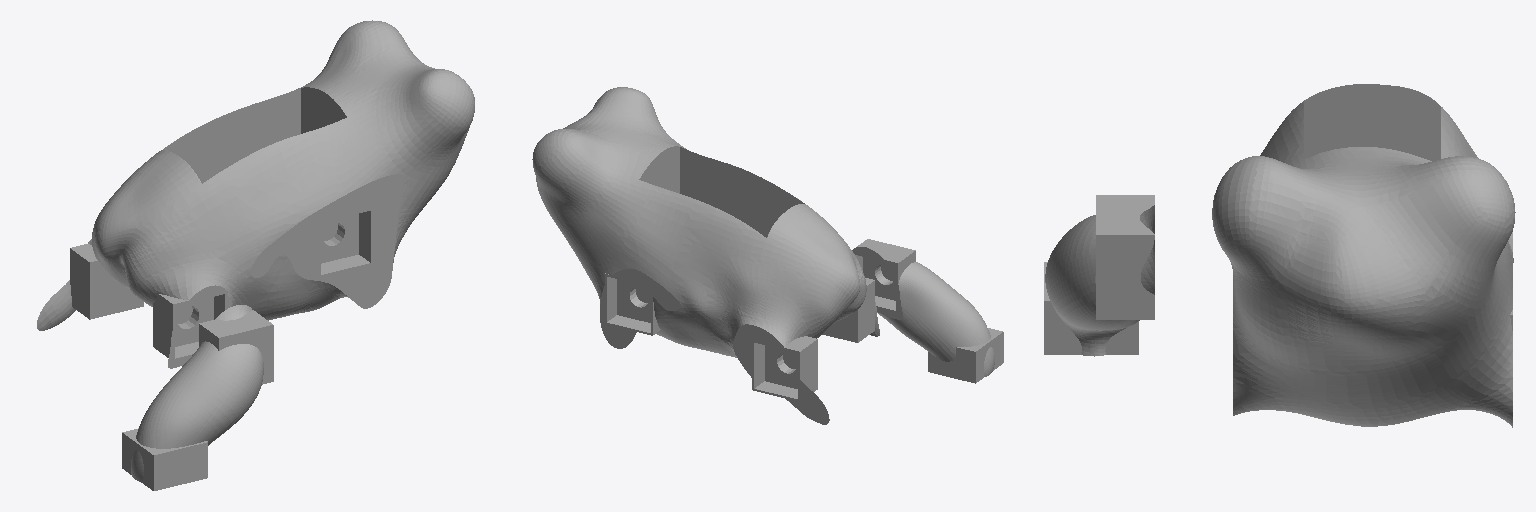
The robot description file, URDF, robot "FrogBot2_top-FrogBot2-x-0_bottom-FrogBot2-x-0":
<?xml version="1.0" ?>
<robot name="FrogBot2_top-FrogBot2-x-0_bottom-FrogBot2-x-0">

<material name="pla_5_percent_infill">
  <color rgba="0.700 0.700 0.700 1.000"/>
</material>

<link name="base_link">
  <inertial>
    <origin xyz="0 0 0" rpy="0 0 0"/>
    <mass value="1.3195545643272064"/>
    <inertia ixx="0.004661128976538509" iyy="0.011084956581942581" izz="0.010434027311362767" ixy="0.00012367021510998604" iyz="8.103854715456007e-05" ixz="-0.0024599087459031862"/>
  </inertial>
  <visual>
    <origin xyz="0 0 0" rpy="0 0 0"/>
    <geometry>
      <mesh filename="simple_meshes/base_link.stl" scale="0.001 0.001 0.001"/>
    </geometry>
    <material name="pla_5_percent_infill"/>
  </visual>
  <collision>
    <origin xyz="0 0 0" rpy="0 0 0"/>
    <geometry>
      <mesh filename="simple_meshes/base_link.stl" scale="0.001 0.001 0.001"/>
    </geometry>
  </collision>
</link>

<link name="body_1_0_1">
  <inertial>
    <origin xyz="-0.053395 -0.09218 -0.023663" rpy="0 0 0"/>
    <mass value="0.04799444423922557"/>
    <inertia ixx="5.2803174145342057e-05" iyy="5.619794103627328e-05" izz="1.676192602884552e-05" ixy="-3.034819435472993e-07" iyz="3.2780100236989845e-06" ixz="6.190608707399671e-06"/>
  </inertial>
  <visual>
    <origin xyz="-0.053395 -0.09218 -0.023663" rpy="0 0 0"/>
    <geometry>
      <mesh filename="simple_meshes/body_1_0_1.stl" scale="0.001 0.001 0.001"/>
    </geometry>
    <material name="pla_5_percent_infill"/>
  </visual>
  <collision>
    <origin xyz="-0.053395 -0.09218 -0.023663" rpy="0 0 0"/>
    <geometry>
      <mesh filename="simple_meshes/body_1_0_1.stl" scale="0.001 0.001 0.001"/>
    </geometry>
  </collision>
</link>

<link name="body_1_1_1">
  <inertial>
    <origin xyz="0.095032 -0.09218 0.005345" rpy="0 0 0"/>
    <mass value="0.08630944673625074"/>
    <inertia ixx="5.514327864541047e-05" iyy="0.00011598762227759589" izz="9.208938151368919e-05" ixy="5.134815311549348e-06" iyz="5.082767921594155e-06" ixz="-3.5080771214462513e-05"/>
  </inertial>
  <visual>
    <origin xyz="0.095032 -0.09218 0.005345" rpy="0 0 0"/>
    <geometry>
      <mesh filename="simple_meshes/body_1_1_1.stl" scale="0.001 0.001 0.001"/>
    </geometry>
    <material name="pla_5_percent_infill"/>
  </visual>
  <collision>
    <origin xyz="0.095032 -0.09218 0.005345" rpy="0 0 0"/>
    <geometry>
      <mesh filename="simple_meshes/body_1_1_1.stl" scale="0.001 0.001 0.001"/>
    </geometry>
  </collision>
</link>

<link name="body_1_2_1">
  <inertial>
    <origin xyz="-0.041549 0.09218 -0.043945" rpy="0 0 0"/>
    <mass value="0.05834434694089081"/>
    <inertia ixx="9.78296082568518e-05" iyy="0.00010293905077679802" izz="2.716272768461532e-05" ixy="1.589657563612313e-06" iyz="-1.4489362938955192e-05" ixz="1.502671672497142e-05"/>
  </inertial>
  <visual>
    <origin xyz="-0.041549 0.09218 -0.043945" rpy="0 0 0"/>
    <geometry>
      <mesh filename="simple_meshes/body_1_2_1.stl" scale="0.001 0.001 0.001"/>
    </geometry>
    <material name="pla_5_percent_infill"/>
  </visual>
  <collision>
    <origin xyz="-0.041549 0.09218 -0.043945" rpy="0 0 0"/>
    <geometry>
      <mesh filename="simple_meshes/body_1_2_1.stl" scale="0.001 0.001 0.001"/>
    </geometry>
  </collision>
</link>

<link name="body_1_3_1">
  <inertial>
    <origin xyz="0.087142 0.09218 -0.003397" rpy="0 0 0"/>
    <mass value="0.09057289863102816"/>
    <inertia ixx="5.639692942870913e-05" iyy="0.00011345600790085212" izz="8.95905237204165e-05" ixy="-5.716857235056171e-06" iyz="-3.6667660727190835e-06" ixz="-3.326508076959982e-05"/>
  </inertial>
  <visual>
    <origin xyz="0.087142 0.09218 -0.003397" rpy="0 0 0"/>
    <geometry>
      <mesh filename="simple_meshes/body_1_3_1.stl" scale="0.001 0.001 0.001"/>
    </geometry>
    <material name="pla_5_percent_infill"/>
  </visual>
  <collision>
    <origin xyz="0.087142 0.09218 -0.003397" rpy="0 0 0"/>
    <geometry>
      <mesh filename="simple_meshes/body_1_3_1.stl" scale="0.001 0.001 0.001"/>
    </geometry>
  </collision>
</link>

<link name="body_2_0_1">
  <inertial>
    <origin xyz="-0.065654 -0.138685 0.094558" rpy="0 0 0"/>
    <mass value="0.09527860020332019"/>
    <inertia ixx="0.0001029198834668647" iyy="0.00011442436296553015" izz="0.000186007311677915" ixy="-1.0464852799072096e-05" iyz="5.479148406796475e-06" ixz="3.7826570893231912e-06"/>
  </inertial>
  <visual>
    <origin xyz="-0.065654 -0.138685 0.094558" rpy="0 0 0"/>
    <geometry>
      <mesh filename="simple_meshes/body_2_0_1.stl" scale="0.001 0.001 0.001"/>
    </geometry>
    <material name="pla_5_percent_infill"/>
  </visual>
  <collision>
    <origin xyz="-0.065654 -0.138685 0.094558" rpy="0 0 0"/>
    <geometry>
      <mesh filename="simple_meshes/body_2_0_1.stl" scale="0.001 0.001 0.001"/>
    </geometry>
  </collision>
</link>

<link name="body_2_1_1">
  <inertial>
    <origin xyz="0.15751 -0.142533 0.094558" rpy="0 0 0"/>
    <mass value="0.07748939377067222"/>
    <inertia ixx="5.797035446383075e-05" iyy="7.381370771172499e-05" izz="9.274986450515978e-05" ixy="2.704018428781145e-07" iyz="1.5240521847553149e-05" ixz="8.529957424013726e-06"/>
  </inertial>
  <visual>
    <origin xyz="0.15751 -0.142533 0.094558" rpy="0 0 0"/>
    <geometry>
      <mesh filename="simple_meshes/body_2_1_1.stl" scale="0.001 0.001 0.001"/>
    </geometry>
    <material name="pla_5_percent_infill"/>
  </visual>
  <collision>
    <origin xyz="0.15751 -0.142533 0.094558" rpy="0 0 0"/>
    <geometry>
      <mesh filename="simple_meshes/body_2_1_1.stl" scale="0.001 0.001 0.001"/>
    </geometry>
  </collision>
</link>

<link name="body_2_2_1">
  <inertial>
    <origin xyz="-0.061161 0.144934 0.094558" rpy="0 0 0"/>
    <mass value="0.09306893628445996"/>
    <inertia ixx="0.0001033425156258547" iyy="0.00011173851979767767" izz="0.00018617734012826978" ixy="1.1591404523521591e-05" iyz="-2.7779278013602936e-06" ixz="1.2372819927100685e-06"/>
  </inertial>
  <visual>
    <origin xyz="-0.061161 0.144934 0.094558" rpy="0 0 0"/>
    <geometry>
      <mesh filename="simple_meshes/body_2_2_1.stl" scale="0.001 0.001 0.001"/>
    </geometry>
    <material name="pla_5_percent_infill"/>
  </visual>
  <collision>
    <origin xyz="-0.061161 0.144934 0.094558" rpy="0 0 0"/>
    <geometry>
      <mesh filename="simple_meshes/body_2_2_1.stl" scale="0.001 0.001 0.001"/>
    </geometry>
  </collision>
</link>

<link name="body_2_3_1">
  <inertial>
    <origin xyz="0.160089 0.144768 0.094558" rpy="0 0 0"/>
    <mass value="0.0733493021309565"/>
    <inertia ixx="6.116190391828105e-05" iyy="7.024912828439058e-05" izz="8.791123455897639e-05" ixy="-1.3856900841766658e-06" iyz="-1.7500856212560858e-05" ixz="1.103211598439918e-05"/>
  </inertial>
  <visual>
    <origin xyz="0.160089 0.144768 0.094558" rpy="0 0 0"/>
    <geometry>
      <mesh filename="simple_meshes/body_2_3_1.stl" scale="0.001 0.001 0.001"/>
    </geometry>
    <material name="pla_5_percent_infill"/>
  </visual>
  <collision>
    <origin xyz="0.160089 0.144768 0.094558" rpy="0 0 0"/>
    <geometry>
      <mesh filename="simple_meshes/body_2_3_1.stl" scale="0.001 0.001 0.001"/>
    </geometry>
  </collision>
</link>

<joint name="joint_1_0" type="revolute">
  <origin xyz="0.053395 0.09218 0.023663" rpy="0 0 0"/>
  <parent link="base_link"/>
  <child link="body_1_0_1"/>
  <axis xyz="1.0 0.0 0.0"/>
  <limit upper="1.2" lower="-1.2" effort="3.8" velocity="5.4"/>
</joint>
<transmission name="joint_1_0_tran">
  <type>transmission_interface/SimpleTransmission</type>
  <joint name="joint_1_0">
    <hardwareInterface>PositionJointInterface</hardwareInterface>
  </joint>
  <actuator name="joint_1_0_actr">
    <hardwareInterface>PositionJointInterface</hardwareInterface>
    <mechanicalReduction>1</mechanicalReduction>
  </actuator>
</transmission>

<joint name="joint_1_1" type="revolute">
  <origin xyz="-0.095032 0.09218 -0.005345" rpy="0 0 0"/>
  <parent link="base_link"/>
  <child link="body_1_1_1"/>
  <axis xyz="1.0 0.0 0.0"/>
  <limit upper="1.2" lower="-1.2" effort="3.8" velocity="5.4"/>
</joint>
<transmission name="joint_1_1_tran">
  <type>transmission_interface/SimpleTransmission</type>
  <joint name="joint_1_1">
    <hardwareInterface>PositionJointInterface</hardwareInterface>
  </joint>
  <actuator name="joint_1_1_actr">
    <hardwareInterface>PositionJointInterface</hardwareInterface>
    <mechanicalReduction>1</mechanicalReduction>
  </actuator>
</transmission>

<joint name="joint_1_2" type="revolute">
  <origin xyz="0.041549 -0.09218 0.043945" rpy="0 0 0"/>
  <parent link="base_link"/>
  <child link="body_1_2_1"/>
  <axis xyz="1.0 0.0 0.0"/>
  <limit upper="1.2" lower="-1.2" effort="3.8" velocity="5.4"/>
</joint>
<transmission name="joint_1_2_tran">
  <type>transmission_interface/SimpleTransmission</type>
  <joint name="joint_1_2">
    <hardwareInterface>PositionJointInterface</hardwareInterface>
  </joint>
  <actuator name="joint_1_2_actr">
    <hardwareInterface>PositionJointInterface</hardwareInterface>
    <mechanicalReduction>1</mechanicalReduction>
  </actuator>
</transmission>

<joint name="joint_1_3" type="revolute">
  <origin xyz="-0.087142 -0.09218 0.003397" rpy="0 0 0"/>
  <parent link="base_link"/>
  <child link="body_1_3_1"/>
  <axis xyz="1.0 0.0 0.0"/>
  <limit upper="1.2" lower="-1.2" effort="3.8" velocity="5.4"/>
</joint>
<transmission name="joint_1_3_tran">
  <type>transmission_interface/SimpleTransmission</type>
  <joint name="joint_1_3">
    <hardwareInterface>PositionJointInterface</hardwareInterface>
  </joint>
  <actuator name="joint_1_3_actr">
    <hardwareInterface>PositionJointInterface</hardwareInterface>
    <mechanicalReduction>1</mechanicalReduction>
  </actuator>
</transmission>

<joint name="joint_2_0" type="revolute">
  <origin xyz="0.012259 0.046505 -0.118221" rpy="0 0 0"/>
  <parent link="body_1_0_1"/>
  <child link="body_2_0_1"/>
  <axis xyz="1.0 0.0 0.0"/>
  <limit upper="1.2" lower="-1.2" effort="3.8" velocity="5.4"/>
</joint>
<transmission name="joint_2_0_tran">
  <type>transmission_interface/SimpleTransmission</type>
  <joint name="joint_2_0">
    <hardwareInterface>PositionJointInterface</hardwareInterface>
  </joint>
  <actuator name="joint_2_0_actr">
    <hardwareInterface>PositionJointInterface</hardwareInterface>
    <mechanicalReduction>1</mechanicalReduction>
  </actuator>
</transmission>

<joint name="joint_2_1" type="revolute">
  <origin xyz="-0.062478 0.050353 -0.089213" rpy="0 0 0"/>
  <parent link="body_1_1_1"/>
  <child link="body_2_1_1"/>
  <axis xyz="1.0 0.0 0.0"/>
  <limit upper="1.2" lower="-1.2" effort="3.8" velocity="5.4"/>
</joint>
<transmission name="joint_2_1_tran">
  <type>transmission_interface/SimpleTransmission</type>
  <joint name="joint_2_1">
    <hardwareInterface>PositionJointInterface</hardwareInterface>
  </joint>
  <actuator name="joint_2_1_actr">
    <hardwareInterface>PositionJointInterface</hardwareInterface>
    <mechanicalReduction>1</mechanicalReduction>
  </actuator>
</transmission>

<joint name="joint_2_2" type="revolute">
  <origin xyz="0.019612 -0.052754 -0.138503" rpy="0 0 0"/>
  <parent link="body_1_2_1"/>
  <child link="body_2_2_1"/>
  <axis xyz="1.0 0.0 0.0"/>
  <limit upper="1.2" lower="-1.2" effort="3.8" velocity="5.4"/>
</joint>
<transmission name="joint_2_2_tran">
  <type>transmission_interface/SimpleTransmission</type>
  <joint name="joint_2_2">
    <hardwareInterface>PositionJointInterface</hardwareInterface>
  </joint>
  <actuator name="joint_2_2_actr">
    <hardwareInterface>PositionJointInterface</hardwareInterface>
    <mechanicalReduction>1</mechanicalReduction>
  </actuator>
</transmission>

<joint name="joint_2_3" type="revolute">
  <origin xyz="-0.072947 -0.052588 -0.097955" rpy="0 0 0"/>
  <parent link="body_1_3_1"/>
  <child link="body_2_3_1"/>
  <axis xyz="1.0 0.0 0.0"/>
  <limit upper="1.2" lower="-1.2" effort="3.8" velocity="5.4"/>
</joint>
<transmission name="joint_2_3_tran">
  <type>transmission_interface/SimpleTransmission</type>
  <joint name="joint_2_3">
    <hardwareInterface>PositionJointInterface</hardwareInterface>
  </joint>
  <actuator name="joint_2_3_actr">
    <hardwareInterface>PositionJointInterface</hardwareInterface>
    <mechanicalReduction>1</mechanicalReduction>
  </actuator>
</transmission>

</robot>

--- What the picture shows (computed from the rendered views, not written in the file) ---
The picture shows the robot from 3 angles, left to right: view 1: azimuth 30°, elevation 25°; view 2: azimuth 150°, elevation 25°; view 3: azimuth 270°, elevation 25°; orthographic projection.
Robot: FrogBot2_top-FrogBot2-x-0_bottom-FrogBot2-x-0 — 9 links, 8 joints (8 revolute); root link base_link; default pose: every joint at zero.
Links seen in each view (by area): view 1: base_link, body_1_3_1; view 2: base_link, body_1_3_1; view 3: base_link, body_1_3_1.
Link boxes in pixels (x1=…): base_link: x1=37, y1=20, x2=474, y2=368; body_1_3_1: x1=122, y1=305, x2=273, y2=490; base_link: x1=532, y1=87, x2=879, y2=424; body_1_3_1: x1=852, y1=239, x2=1003, y2=383; base_link: x1=1212, y1=84, x2=1515, y2=427; body_1_3_1: x1=1044, y1=195, x2=1154, y2=356.
Bounding box of the posed robot: 0.3733 × 0.2425 × 0.2352 m (x, y, z).
Meshes: 9 distinct files referenced, 2 mesh visuals loaded (2 binary STL); not drawn: 7 (reference not matched to a file when rendering).